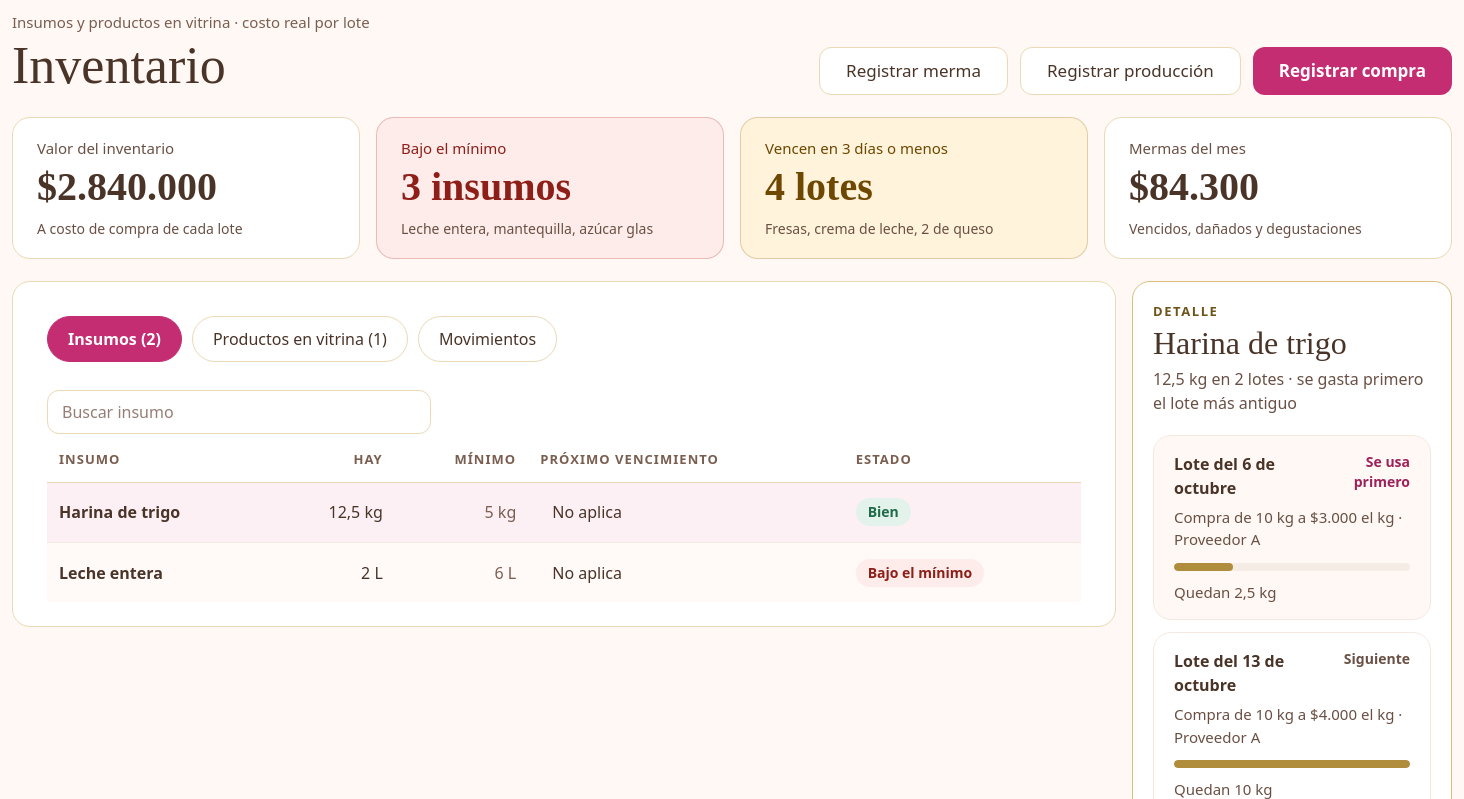
Test: Inventario › filtra la tabla escribiendo, sin importar tildes
Check: the text "Harina de trigo" is shown, box [47,482,273,542]
Type "LECHE" into the search field labelled "Buscar insumo" at point(239, 412), box [47,390,431,434]
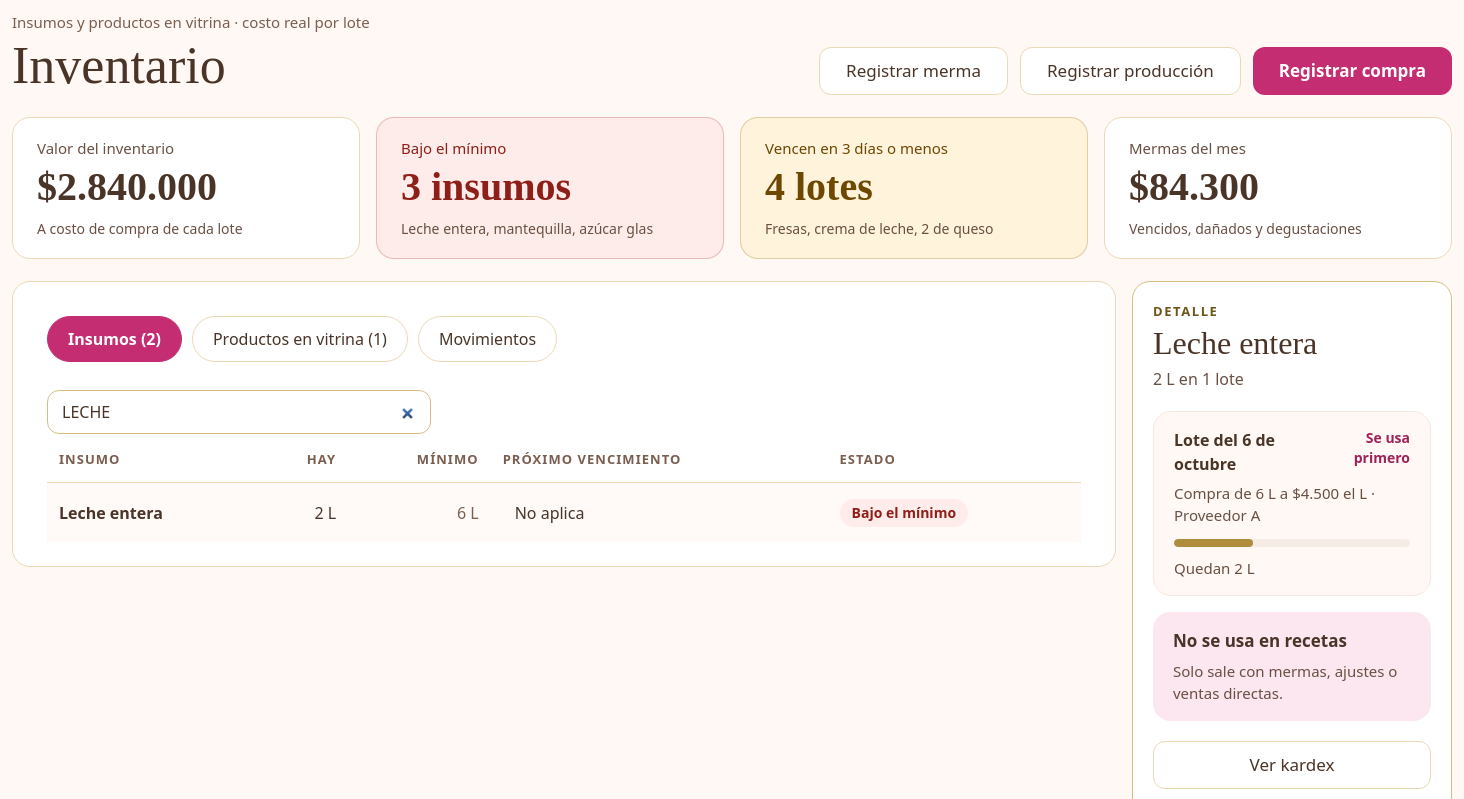
Check: the text "Leche entera" is shown, box [47,482,259,542]
Check: the text "Harina de trigo" is gone
